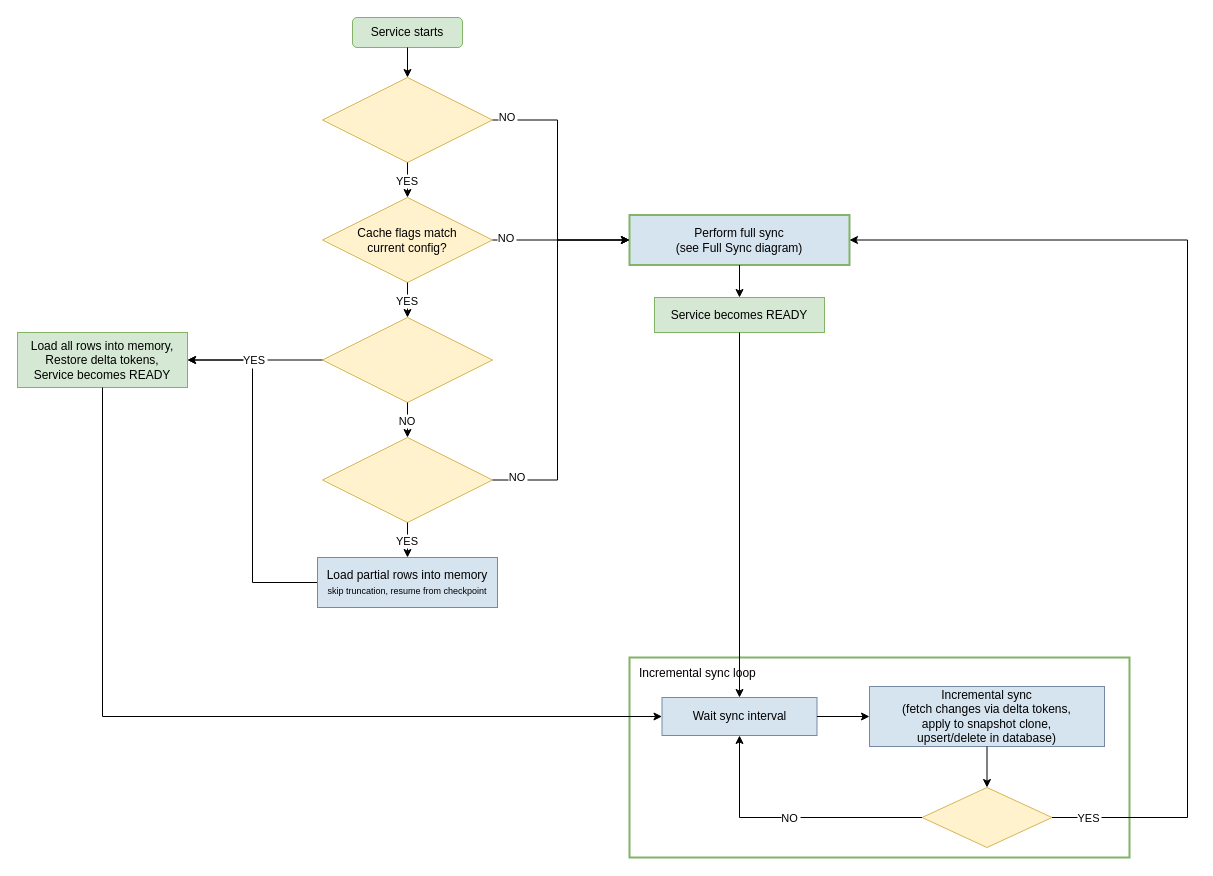
Image size: 1213x876. Some labels were removed from this diagram. Here are the shapes that lost their labels. From the top down, the centre of each, then its label:
point 407,119: Postgres enabled and sync state exists?
point 407,359: Previous sync completed?
point 407,479: Resume state present?
point 986,817: Delta token expired?
